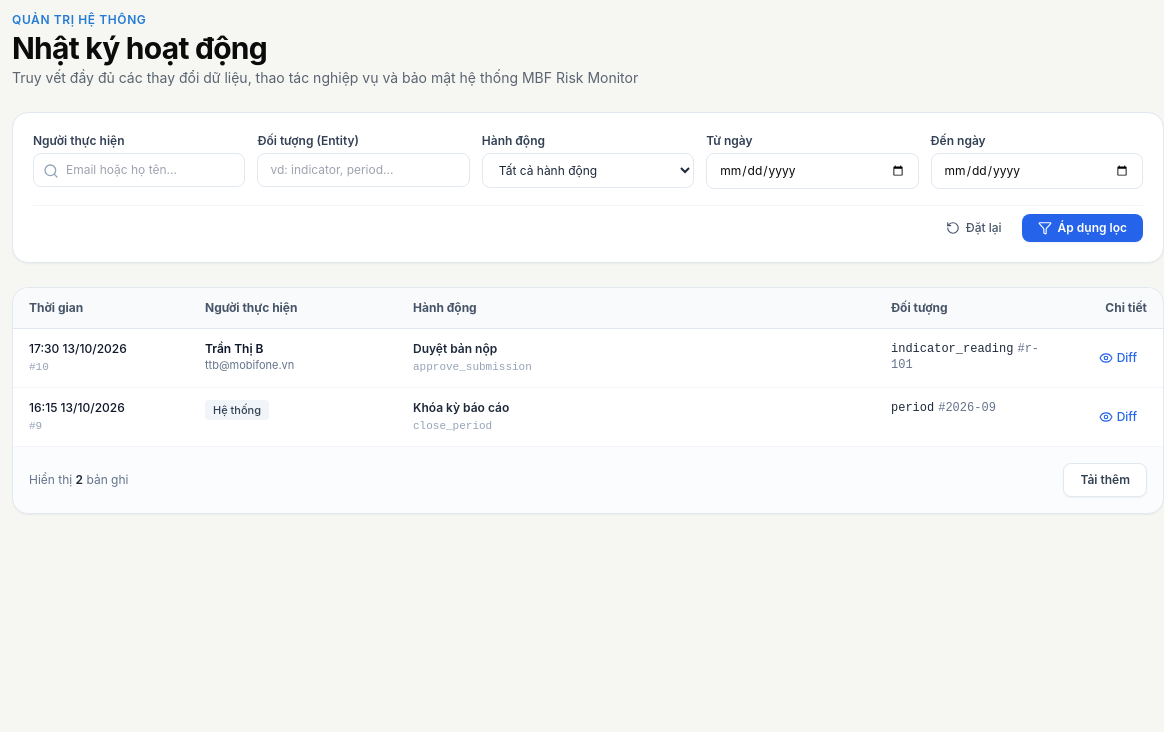
Scenario: AuditView component › phân trang nối tiếp không trùng: tải thêm nối các bản ghi và lọc trùng
Check: the element with test id "audit-count" reads "Hiển thị 2 bản ghi", box [29,472,128,488]
Note: Click "Tải thêm"
Click the button with test id "load-more-btn" at (1105, 480), box [1063,463,1147,497]
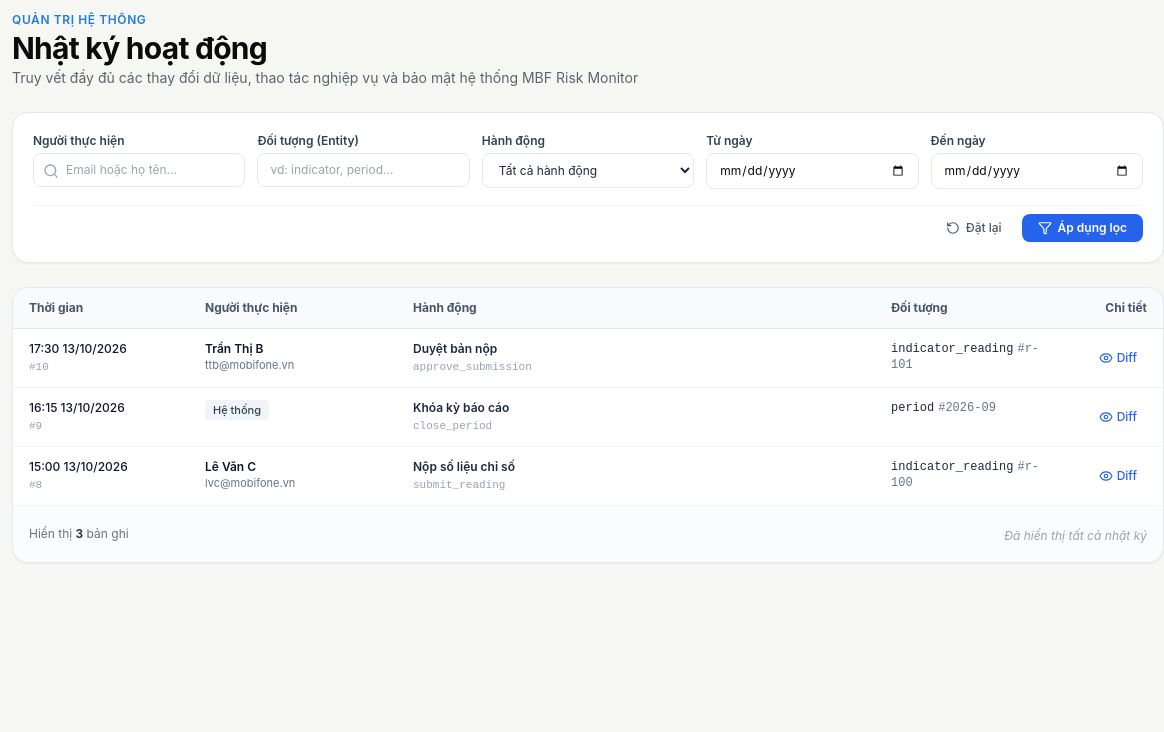
Check: the element with test id "audit-count" reads "Hiển thị 3 bản ghi", box [29,526,129,542]
Check: the text "Nộp số liệu chỉ số" is shown, box [413,459,515,474]
Check: the button with test id "load-more-btn" is gone
